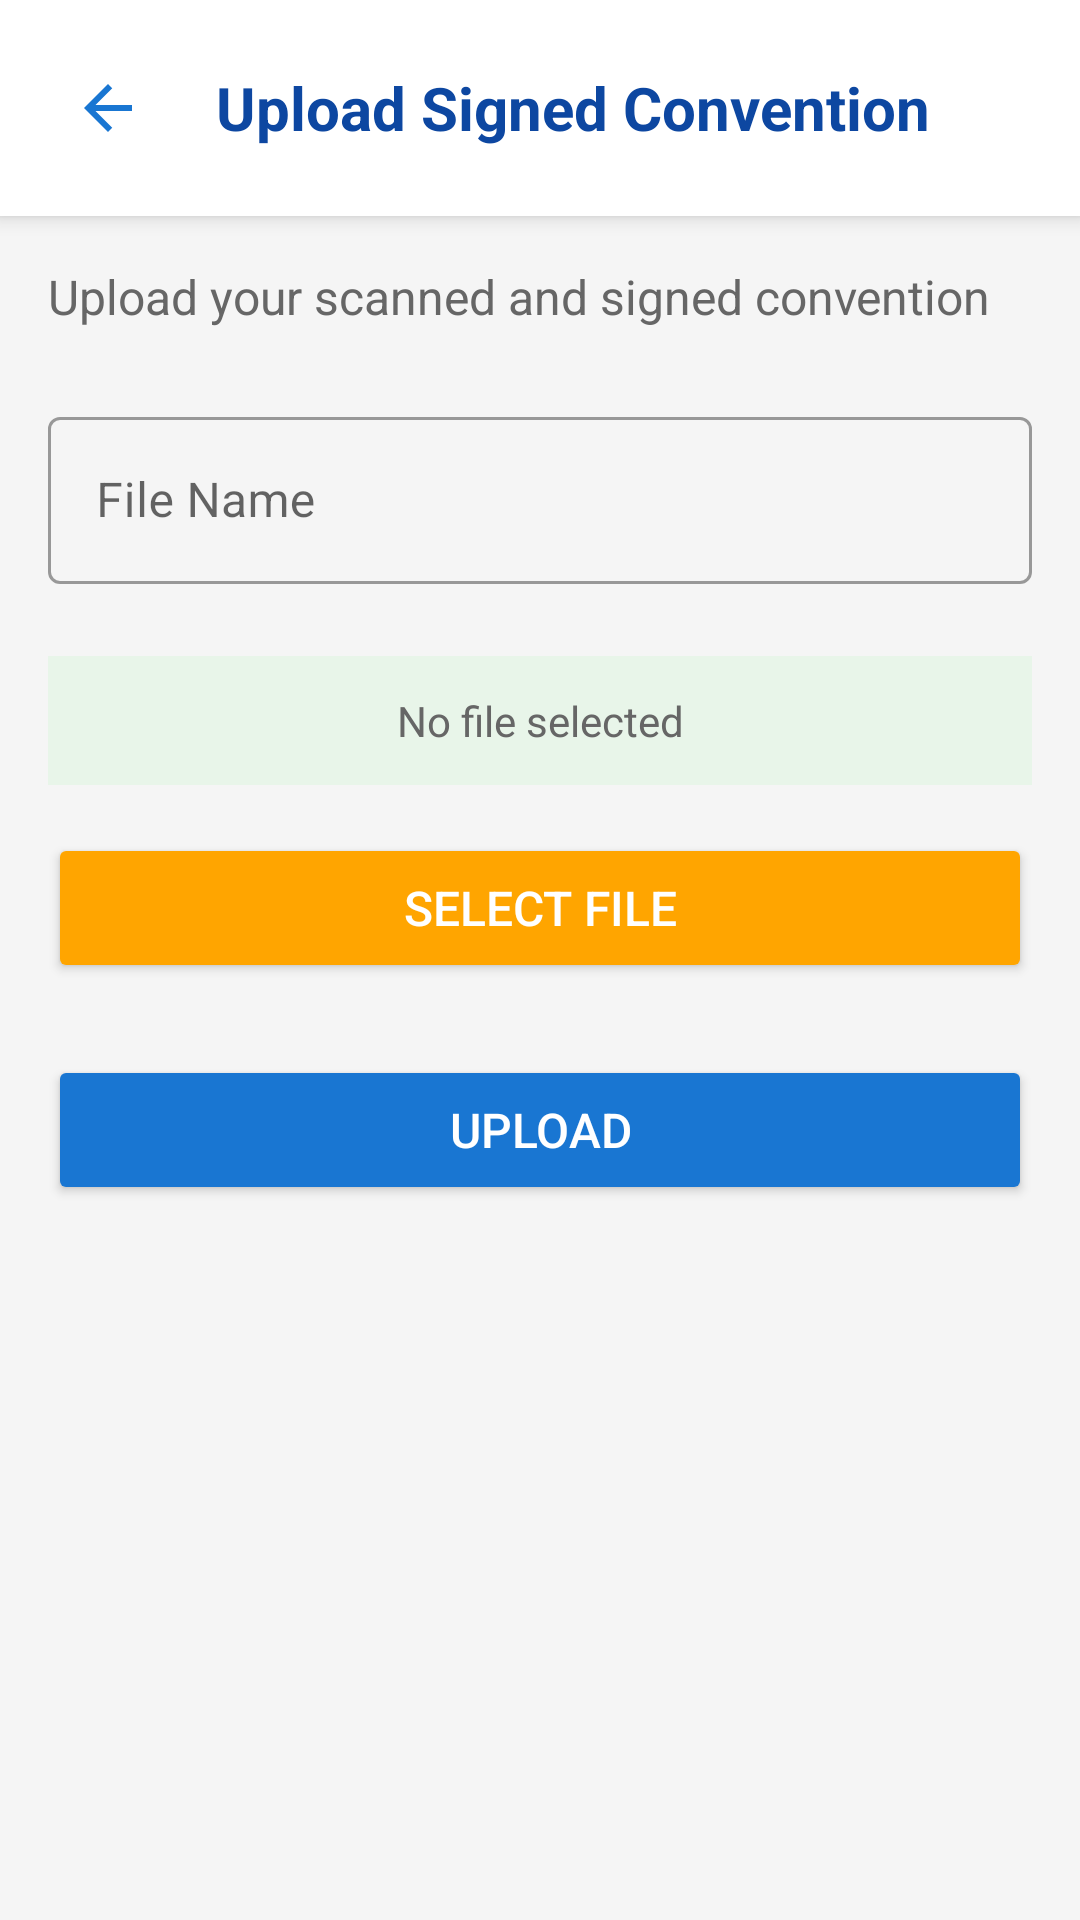

Icon click points for this 1080 × 1920 phone screenshot, format [x,y]:
Retour: [108,108]
